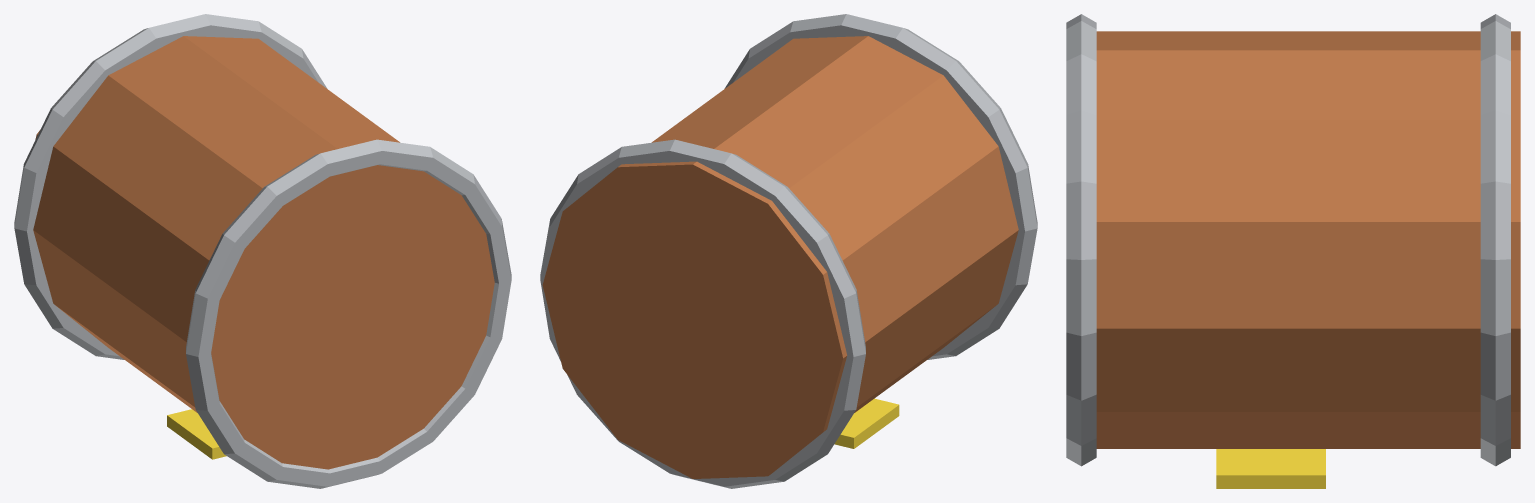
The model's file is destructible_barrel.glb.
3 renders of one model, left to right at view 1: azimuth 30°, elevation 25°; view 2: azimuth 150°, elevation 25°; view 3: azimuth 270°, elevation 25°, orthographic. The views are drawn at different scales.
Visible parts, largest first — view 1: barrel, rimTop, rimBot, label; view 2: barrel, rimBot, rimTop, label; view 3: barrel, rimTop, rimBot, label.
Boxes of the visible parts, x1,y1,x2,y2 form: barrel: [33, 36, 494, 469]; rimTop: [186, 139, 511, 488]; rimBot: [14, 14, 327, 359]; label: [167, 409, 226, 459]; barrel: [542, 36, 1018, 478]; rimBot: [540, 139, 865, 488]; rimTop: [724, 14, 1037, 359]; label: [834, 398, 899, 448]; barrel: [1096, 31, 1520, 448]; rimTop: [1066, 14, 1096, 466]; rimBot: [1480, 14, 1510, 466]; label: [1216, 449, 1325, 488].
Size of the model in its own units: 0.91 by 0.8962 by 0.9103.
